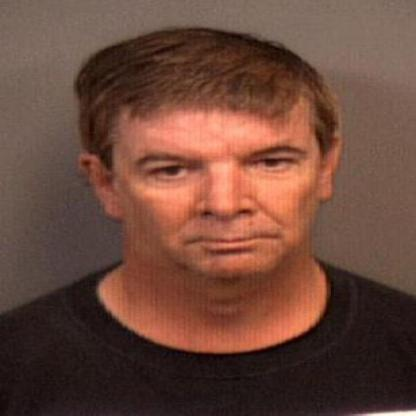face: (109, 35, 328, 287)
